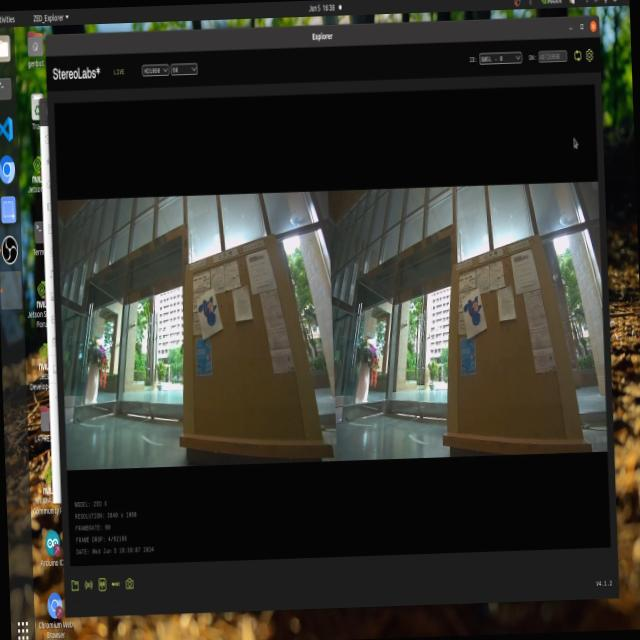blue: (196, 294, 228, 346), (462, 286, 484, 336)
